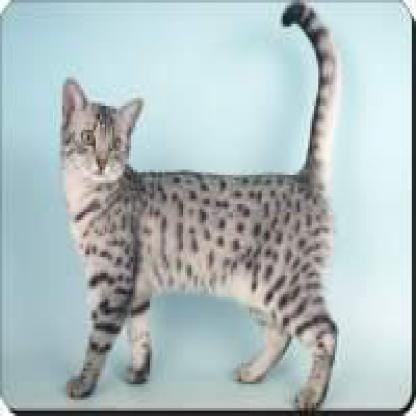cat: (60, 0, 339, 406)
